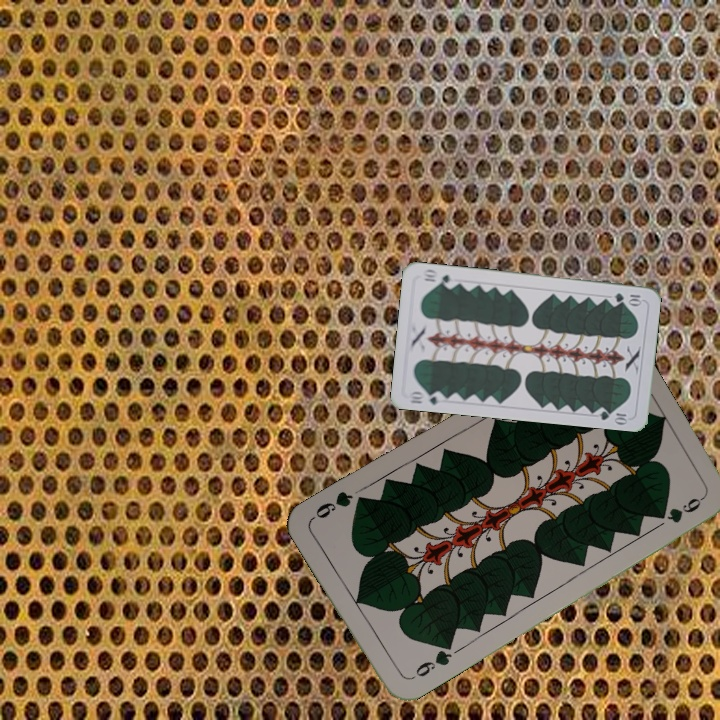G10: (405, 387, 446, 407), (610, 289, 645, 306)
G9: (411, 641, 455, 680)
